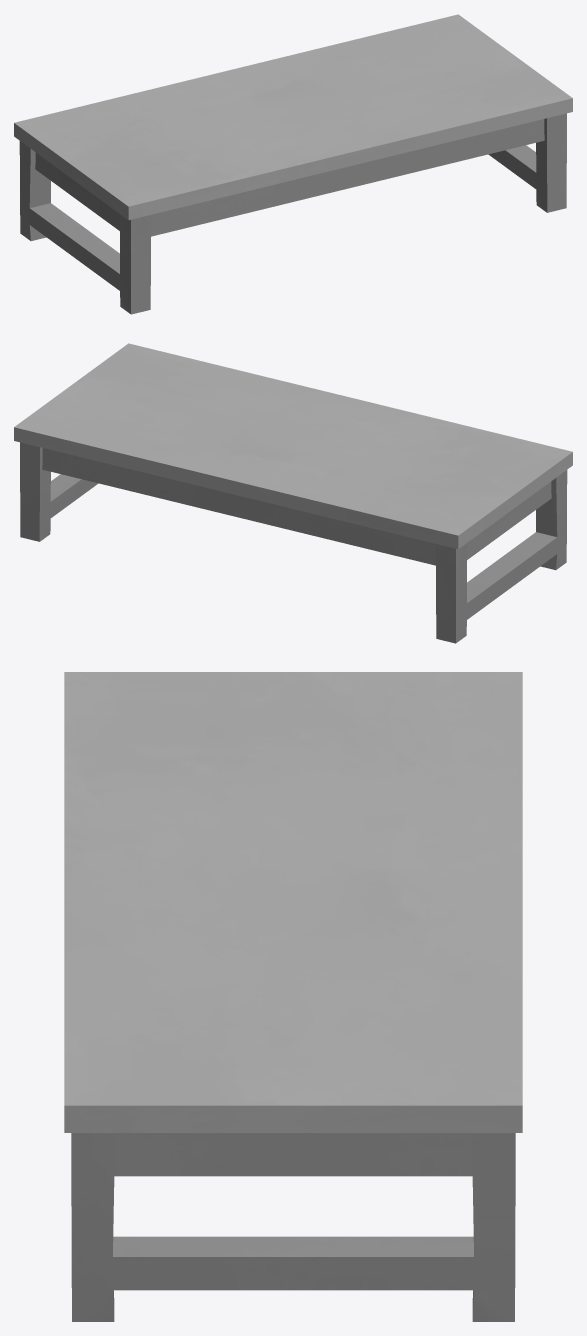
The model's file is Pfb_Table__2.fbx.
3 views of the same model, one above another, from view 1: azimuth 30°, elevation 25°; view 2: azimuth 150°, elevation 25°; view 3: azimuth 270°, elevation 25° (orthographic). The views are drawn at different scales.
Visible parts, largest first — view 1: Mat_Table_02_Black; view 2: Mat_Table_02_Black; view 3: Mat_Table_02_Black.
Boxes of the visible parts, <box> form: Mat_Table_02_Black: <box>14,14,572,314</box>; Mat_Table_02_Black: <box>14,343,572,643</box>; Mat_Table_02_Black: <box>64,672,522,1321</box>.
Bounding box in the file's own units: 2.78 × 0.6588 × 1.24.
1 material, 1 textured.
